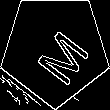M_NW: (23, 16, 87, 83)
